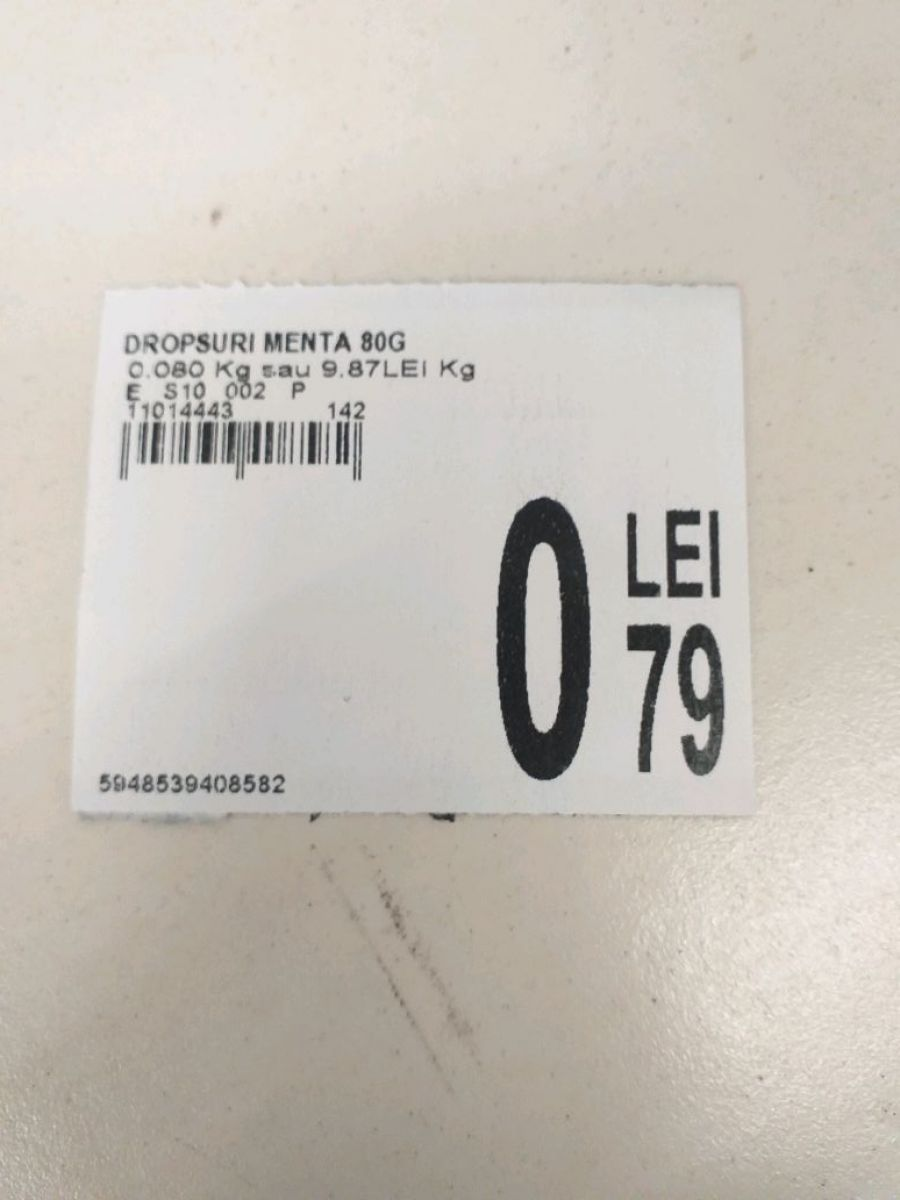price_bani: (619, 613, 741, 788)
price_lei: (482, 482, 612, 805)
price_tag: (57, 261, 786, 842)
product_id: (81, 761, 306, 800)
product_name: (107, 326, 431, 361)
